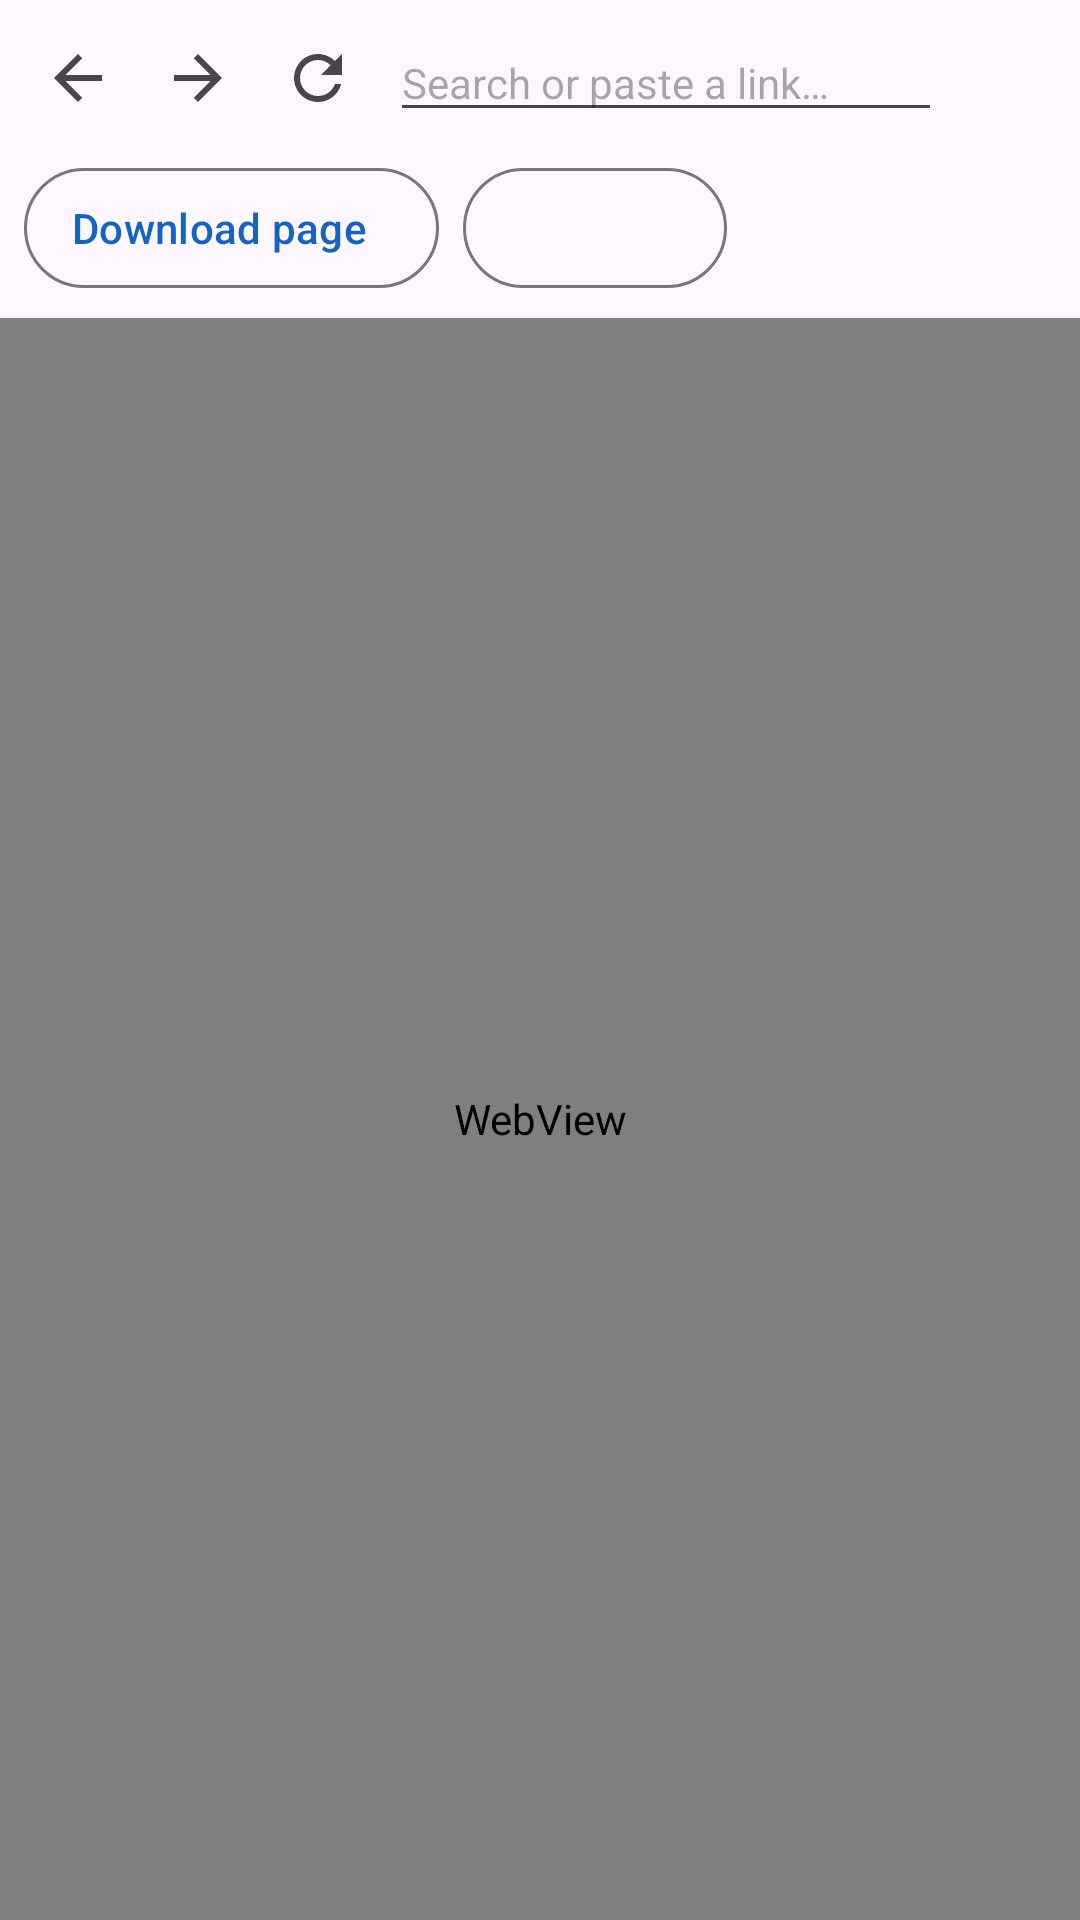

Where to tap for icons on this 1080×1920 app screen, as (x,y):
Back: (78,78)
Forward: (198,78)
Reload: (318,78)
